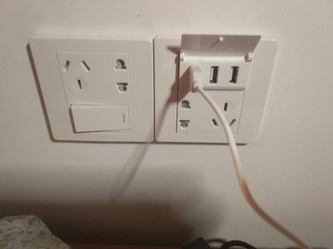switch: (68, 100, 132, 134)
